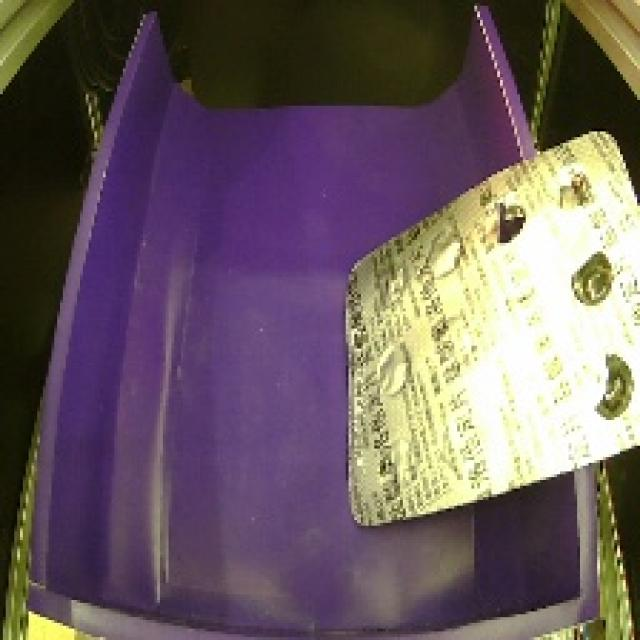med_plate: (327, 121, 640, 540)
